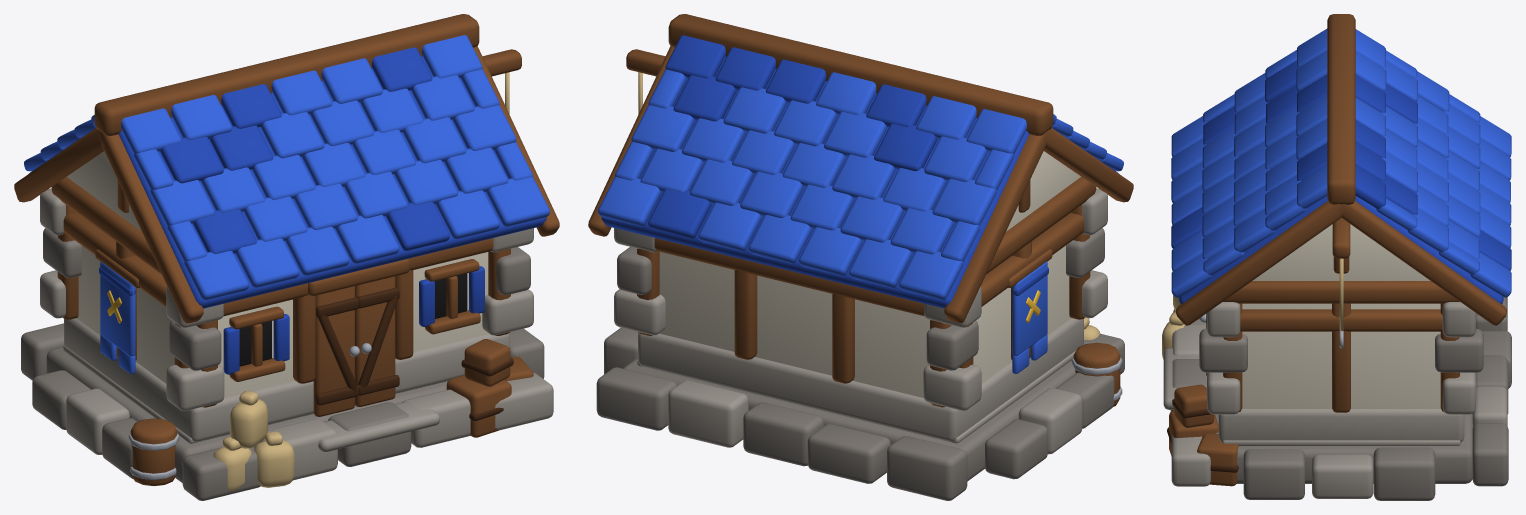
Rendered from Storehouse.glb.
3 renders of one model, left to right at view 1: azimuth 30°, elevation 25°; view 2: azimuth 150°, elevation 25°; view 3: azimuth 270°, elevation 25°, orthographic. The views are drawn at different scales.
Visible parts, largest first — view 1: Storehouse; view 2: Storehouse; view 3: Storehouse.
Boxes of the visible parts, bbox=[...] form: Storehouse: bbox=[14, 14, 559, 500]; Storehouse: bbox=[588, 14, 1133, 500]; Storehouse: bbox=[1162, 14, 1511, 500].
Bounding box in the file's own units: 3.69 × 2.68 × 2.73.
